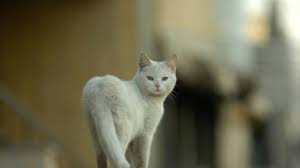cat: (74, 47, 191, 168)
